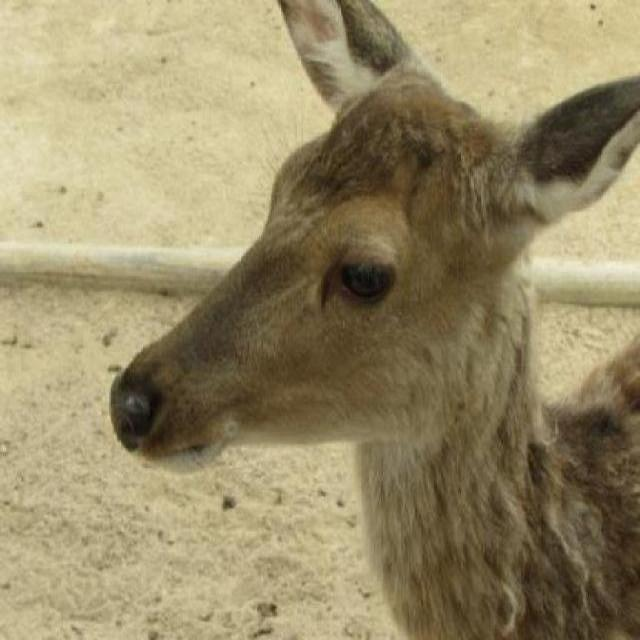deer: (66, 0, 639, 637)
